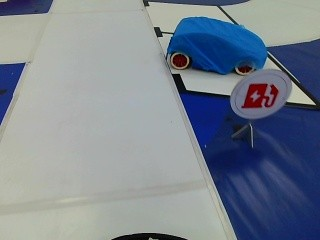battery: (231, 77, 281, 113)
car: (165, 15, 260, 76)
